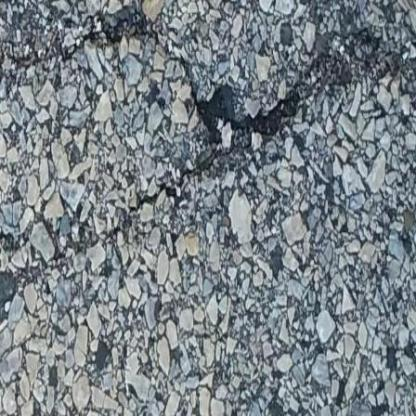Cracks: (0, 15, 412, 319)
